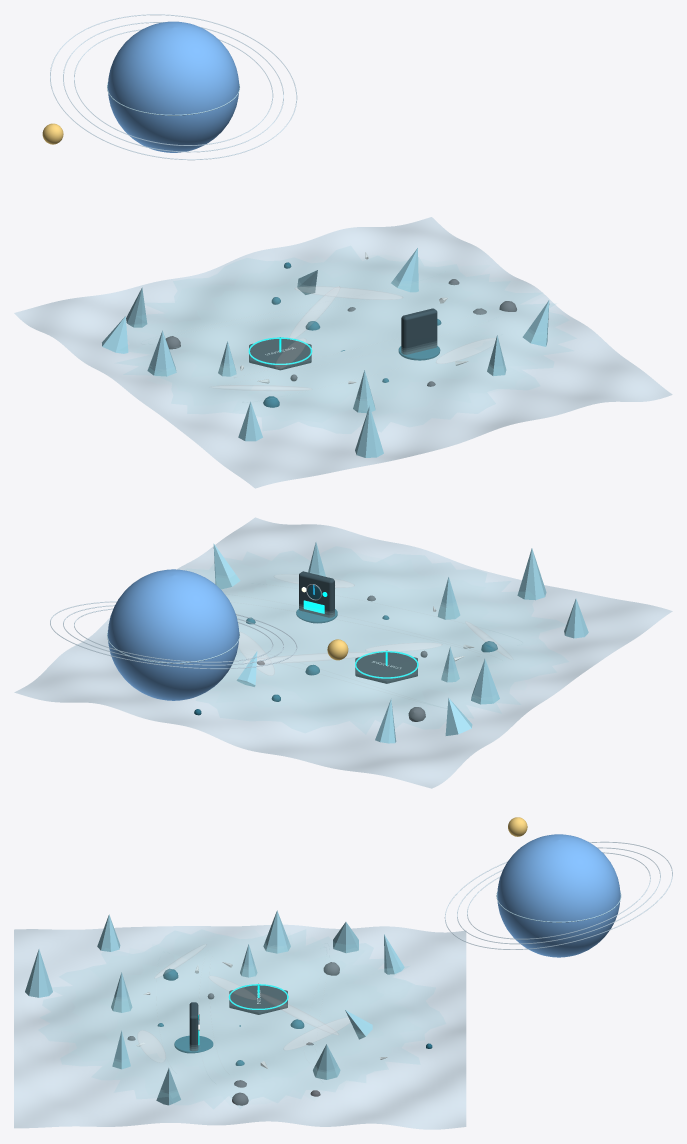
File: Neptune_Final_For_Unity.fbx
The picture shows the model from 3 angles, top to bottom: view 1: azimuth 30°, elevation 25°; view 2: azimuth 150°, elevation 25°; view 3: azimuth 270°, elevation 25°; orthographic projection. The views are drawn at different scales.
Parts seen in each view (by area): view 1: SM_NEP_IceSurface, SM_NEP_BackgroundPlanet, SM_NEP_FinalGasLayer_Low, SM_NEP_StartZone_DarkHexBase, SM_NEP_DeviceBody, SM_NEP_Ring_03, SM_NEP_FinalMist_C, SM_NEP_IceToros_06_Spike_02, SM_NEP_Ring_02, SM_NEP_IceToros_06_Spike_04, SM_NEP_IceToros_02_Spike_02; view 2: SM_NEP_IceSurface, SM_NEP_BackgroundPlanet, SM_NEP_FinalGasLayer_Low, SM_NEP_StartZone_DarkHexBase, SM_NEP_DeviceBody, SM_NEP_IceToros_06_Spike_02, SM_NEP_IceToros_06_Spike_04, SM_NEP_IceToros_01_Spike_01, SM_NEP_FinalMist_C, SM_NEP_Ring_03, SM_NEP_IceToros_05_Spike_01, SM_NEP_IceToros_09_Spike_01 (+6 smaller); view 3: SM_NEP_IceSurface, SM_NEP_BackgroundPlanet, SM_NEP_FinalGasLayer_Low, SM_NEP_StartZone_DarkHexBase, SM_NEP_IceToros_06_Spike_02, SM_NEP_FinalMist_C, SM_NEP_IceToros_06_Spike_04, SM_NEP_Ring_03, SM_NEP_IceToros_02_Spike_02, SM_NEP_Ring_02, SM_NEP_FinalMist_A, SM_NEP_IceToros_05_Spike_01 (+7 smaller).
Boxes of the visible parts, x1=… form: SM_NEP_IceSurface: x1=14, y1=217, x2=672, y2=488; SM_NEP_BackgroundPlanet: x1=107, y1=21, x2=239, y2=152; SM_NEP_FinalGasLayer_Low: x1=119, y1=246, x2=575, y2=433; SM_NEP_StartZone_DarkHexBase: x1=249, y1=337, x2=311, y2=370; SM_NEP_DeviceBody: x1=401, y1=308, x2=437, y2=354; SM_NEP_Ring_03: x1=50, y1=14, x2=297, y2=160; SM_NEP_FinalMist_C: x1=295, y1=286, x2=402, y2=299; SM_NEP_IceToros_06_Spike_02: x1=355, y1=406, x2=383, y2=457; SM_NEP_Ring_02: x1=63, y1=22, x2=283, y2=152; SM_NEP_IceToros_06_Spike_04: x1=147, y1=330, x2=176, y2=376; SM_NEP_IceToros_02_Spike_02: x1=391, y1=248, x2=418, y2=292; SM_NEP_IceSurface: x1=14, y1=517, x2=672, y2=788; SM_NEP_BackgroundPlanet: x1=107, y1=569, x2=239, y2=700; SM_NEP_FinalGasLayer_Low: x1=186, y1=547, x2=567, y2=733; SM_NEP_StartZone_DarkHexBase: x1=355, y1=650, x2=417, y2=683; SM_NEP_DeviceBody: x1=299, y1=571, x2=334, y2=617; SM_NEP_IceToros_06_Spike_02: x1=517, y1=548, x2=546, y2=600; SM_NEP_IceToros_06_Spike_04: x1=471, y1=659, x2=499, y2=704; SM_NEP_IceToros_01_Spike_01: x1=213, y1=543, x2=240, y2=589; SM_NEP_FinalMist_C: x1=238, y1=632, x2=274, y2=675; SM_NEP_Ring_03: x1=50, y1=601, x2=297, y2=669; SM_NEP_IceToros_05_Spike_01: x1=445, y1=698, x2=472, y2=735; SM_NEP_IceToros_09_Spike_01: x1=564, y1=598, x2=588, y2=638; SM_NEP_IceSurface: x1=14, y1=924, x2=466, y2=1129; SM_NEP_BackgroundPlanet: x1=497, y1=834, x2=620, y2=957; SM_NEP_FinalGasLayer_Low: x1=39, y1=930, x2=445, y2=1108; SM_NEP_StartZone_DarkHexBase: x1=229, y1=985, x2=287, y2=1014; SM_NEP_IceToros_06_Spike_02: x1=25, y1=949, x2=52, y2=997; SM_NEP_FinalMist_C: x1=284, y1=1017, x2=349, y2=1049; SM_NEP_IceToros_06_Spike_04: x1=263, y1=910, x2=290, y2=953; SM_NEP_Ring_03: x1=444, y1=841, x2=672, y2=949; SM_NEP_IceToros_02_Spike_02: x1=313, y1=1044, x2=340, y2=1079; SM_NEP_Ring_02: x1=457, y1=847, x2=660, y2=944; SM_NEP_FinalMist_A: x1=137, y1=1030, x2=165, y2=1062; SM_NEP_IceToros_05_Spike_01: x1=333, y1=922, x2=358, y2=953.
Bounding box in the file's own units: 2200 × 1048 × 3205.
